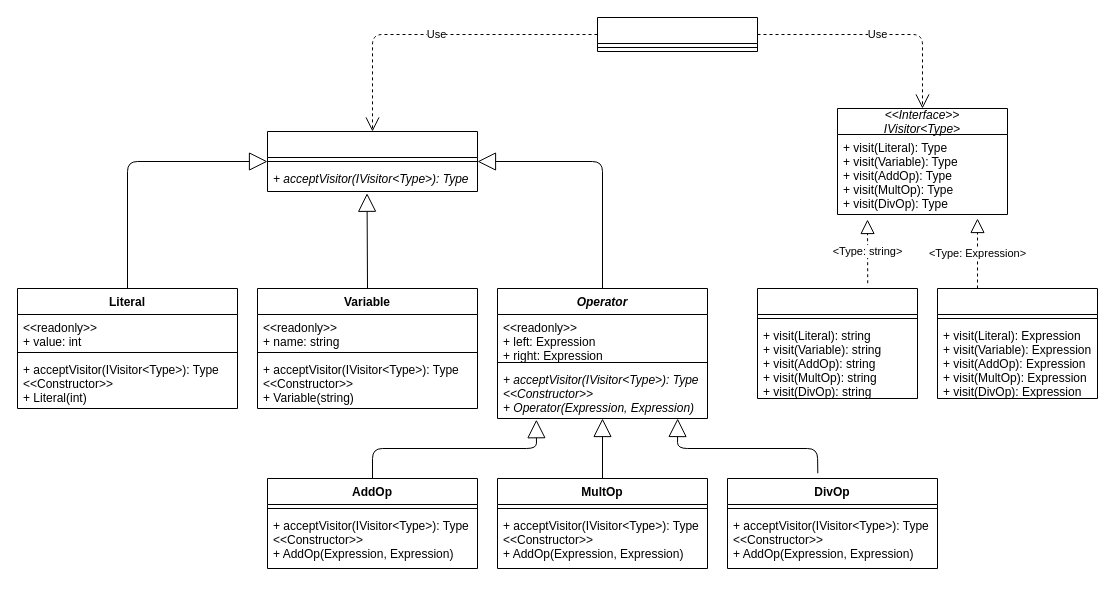
Image size: 1115x589. Some labels were removed from this diagram. The shapes that lost their labels are listed below. From the top down, each one's box as (x1, y1, x2, y2) in pixels, then its label:
(596, 16, 758, 52): Client
(266, 130, 478, 192): Expression
(756, 288, 918, 398): PrintExpr
(936, 288, 1098, 398): CalcExpr
